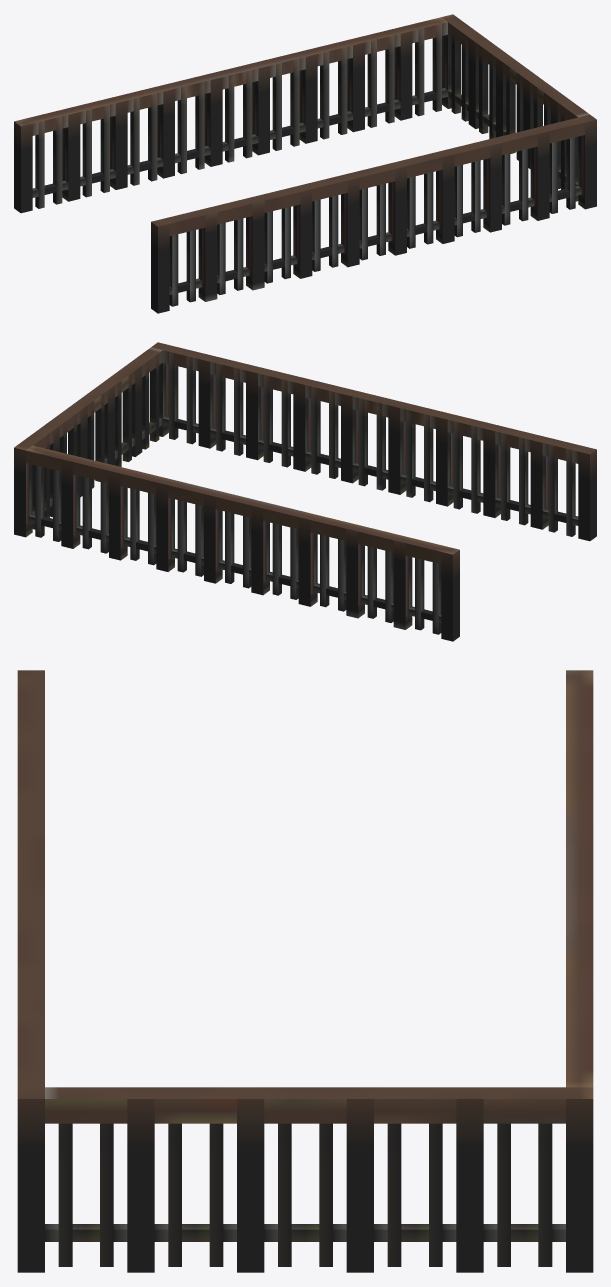
Rendered from BarrierStairCase_00.obj.
3 views of the same model, one above another, from view 1: azimuth 30°, elevation 25°; view 2: azimuth 150°, elevation 25°; view 3: azimuth 270°, elevation 25° (orthographic). The views are drawn at different scales.
Visible parts, largest first — view 1: BarrierStairCase_00; view 2: BarrierStairCase_00; view 3: BarrierStairCase_00.
Boxes of the visible parts, x1,y1,x2,y2 form: BarrierStairCase_00: [14, 14, 596, 313]; BarrierStairCase_00: [14, 342, 596, 641]; BarrierStairCase_00: [17, 670, 593, 1272].
Size of the model in its own units: 3.7 by 0.7 by 2.1.
